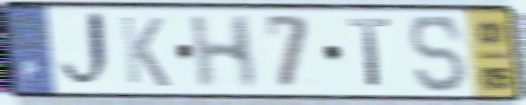7: (262, 12, 318, 93)
H: (186, 13, 260, 92)
J: (57, 8, 117, 94)
K: (118, 13, 173, 90)
S: (406, 12, 470, 96)
T: (345, 15, 395, 91)
